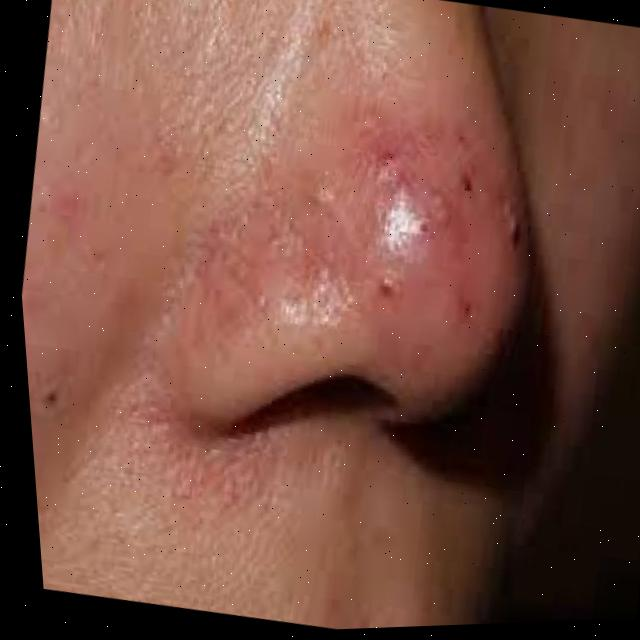Rosacea: (223, 96, 513, 336)
